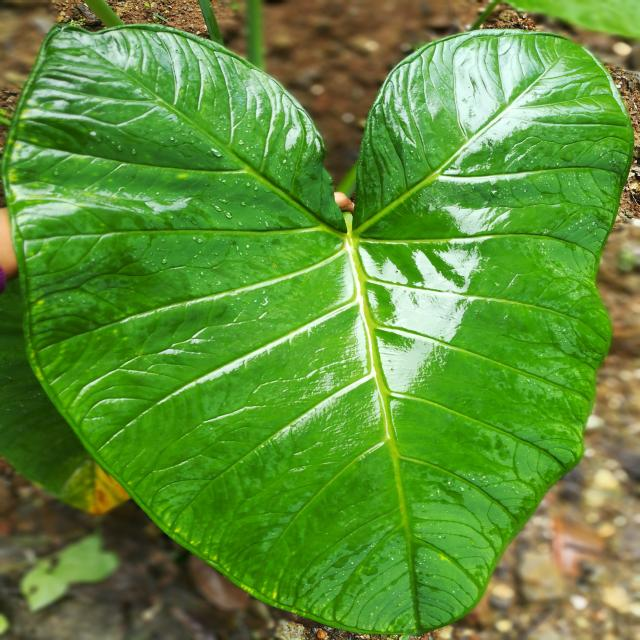taro: (5, 26, 632, 632)
